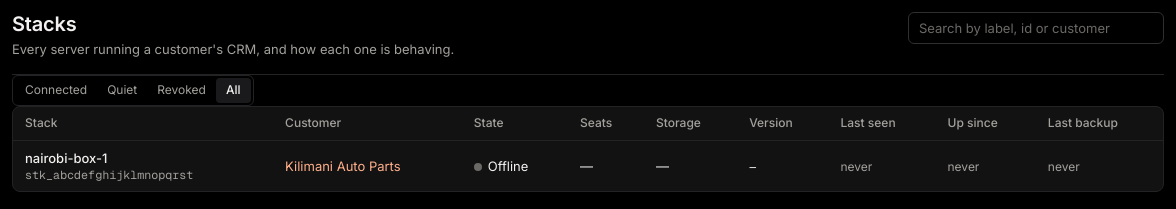
Test: the stacks screen › asks the server for the quiet ones rather than filtering here
This screenshot has width=1176, height=209.
Expected: the row "nairobi-box-1" is shown, [13,141,1163,191]
What coordinates should you click on to do the following:
click the tab "Quiet"
I would click on:
 (122, 91)
Its box is [97,78,147,103].
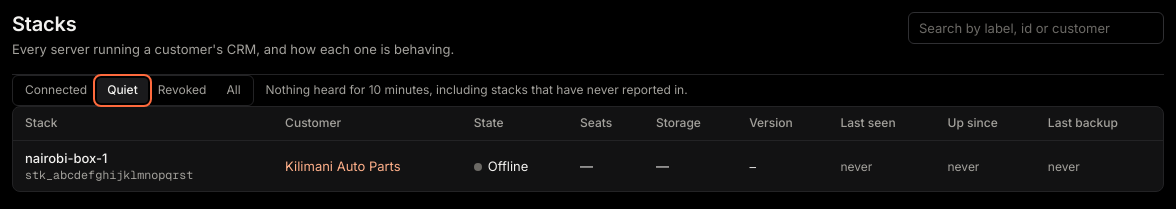
Result: the text "including stacks that have never reported in" is shown at [381,82,688,97]
